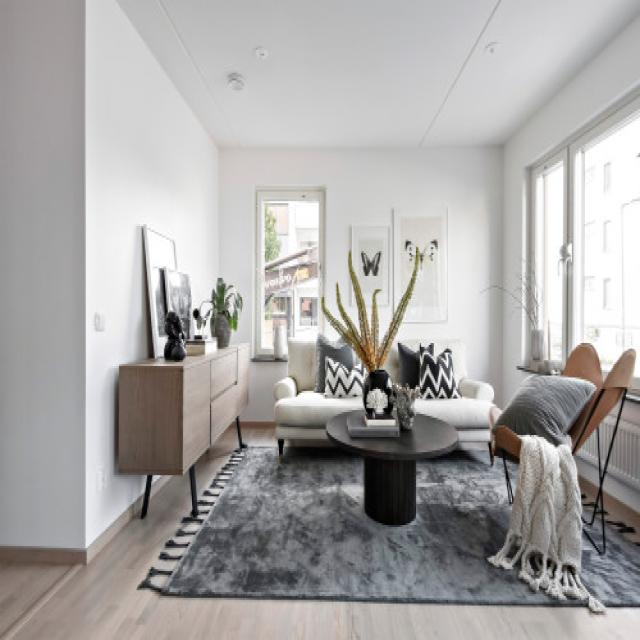modern chair: (489, 333, 634, 556)
modern desk: (321, 402, 463, 530)
modern shelf: (108, 338, 255, 518)
